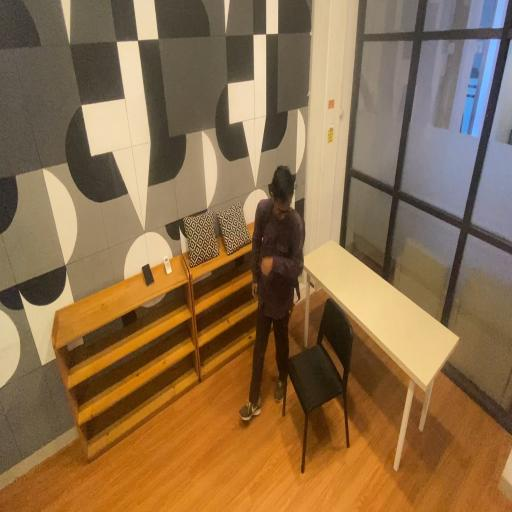bantal: (183, 208, 222, 270), (216, 202, 253, 260)
hp: (140, 258, 157, 292)
kursi: (285, 288, 355, 482)
lemari: (44, 246, 203, 468), (179, 199, 287, 387)
meja: (302, 227, 471, 494)
remote AC: (162, 250, 174, 280)
